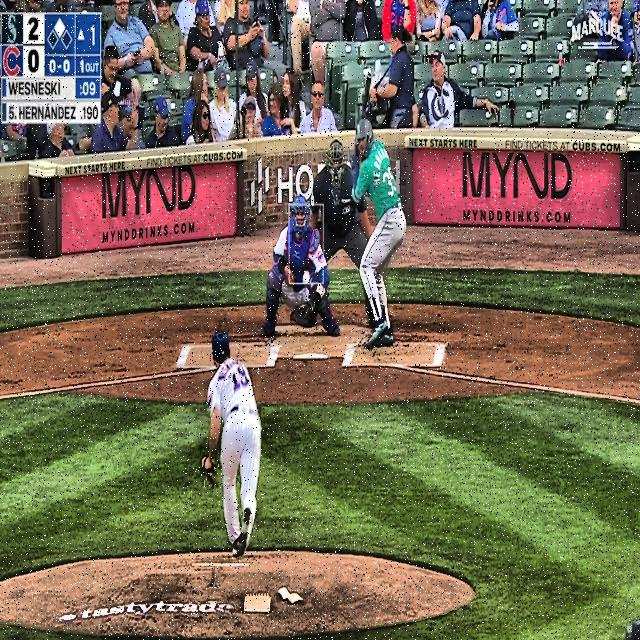baseball: (303, 270, 310, 284)
